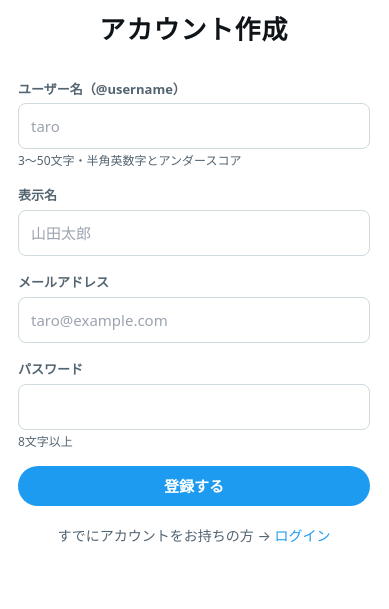
Test: SignupPage › 同値分割（全体エラー）: 重複などの項目に紐づかないエラーは alert で出す
Type "alice" into the field labelled "ユーザー名（@username）" at (194, 126), box x1=18 y1=103 x2=370 y2=149
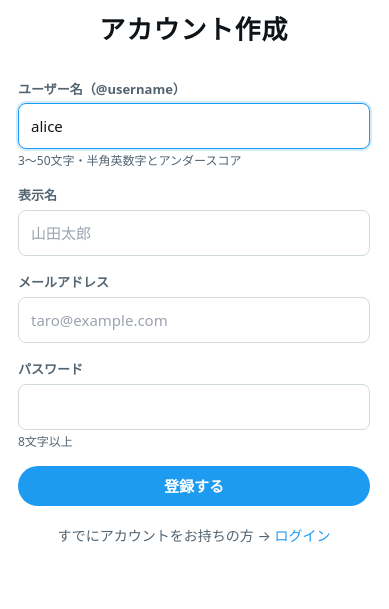
Type "アリス" into the field labelled "表示名" at (194, 233), box x1=18 y1=210 x2=370 y2=256
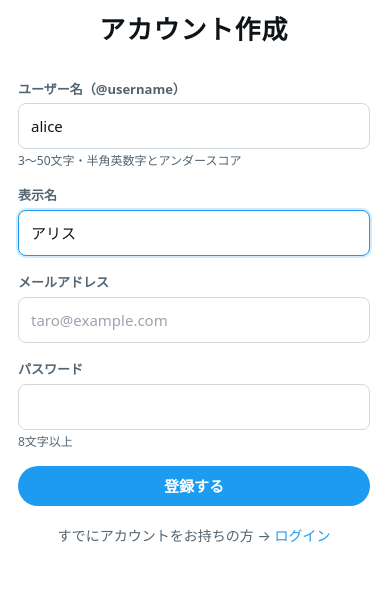
Type "alice@example.com" into the field labelled "メールアドレス" at (194, 320), box x1=18 y1=297 x2=370 y2=343
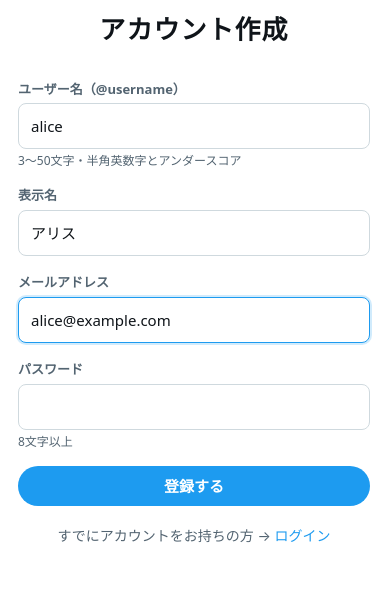
Type "password123" into the password field labelled "パスワード" at (194, 407), box x1=18 y1=384 x2=370 y2=430
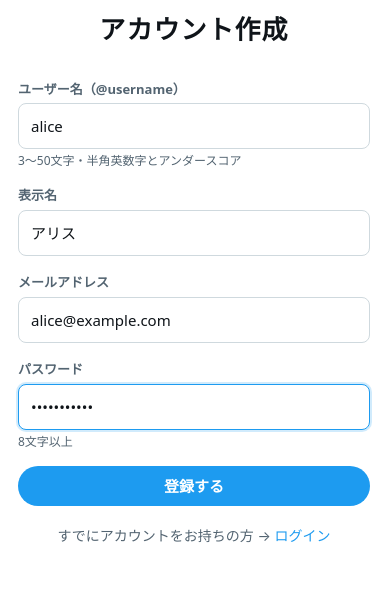
Click the button "登録する" at (194, 486), box x1=18 y1=466 x2=370 y2=506
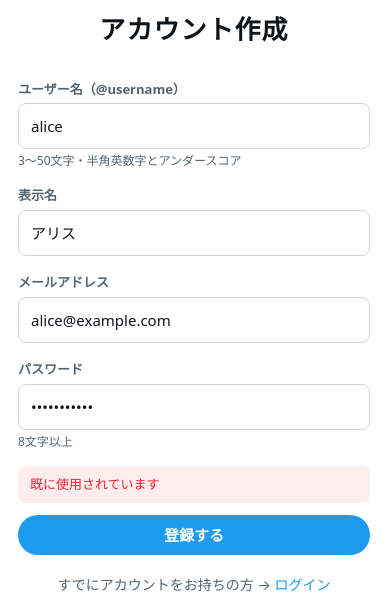
Now the message reads "既に使用されています", box x1=30 y1=475 x2=160 y2=493
